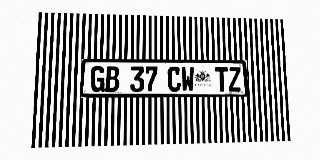3: (130, 66, 144, 92)
7: (144, 66, 158, 92)
B: (105, 66, 119, 92)
C: (167, 67, 181, 92)
G: (90, 66, 105, 92)
T: (215, 67, 228, 92)
W: (181, 67, 194, 92)
Z: (228, 67, 241, 92)
